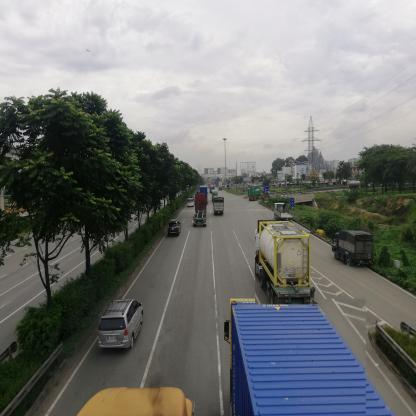car: (100, 301, 142, 349), (169, 221, 181, 236), (189, 199, 195, 207)
container: (231, 300, 367, 416), (196, 196, 207, 225), (250, 188, 269, 201)
truck: (257, 221, 312, 306), (332, 232, 374, 266), (276, 205, 293, 219), (214, 198, 224, 215)
